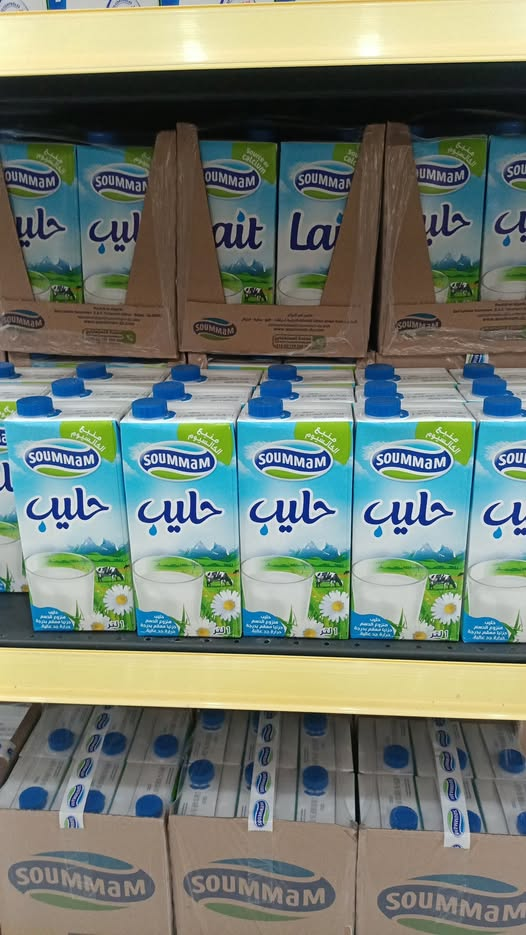soummam_milk: (3, 394, 136, 641), (348, 393, 478, 644), (122, 397, 245, 641), (237, 401, 353, 642)
